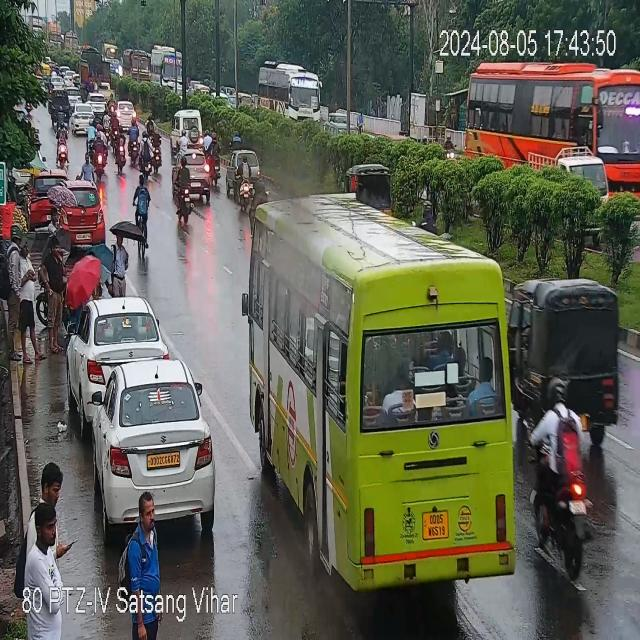2-wheelers: (535, 386, 587, 542), (230, 151, 264, 209), (172, 157, 202, 221), (130, 169, 152, 243), (140, 115, 162, 169), (88, 123, 109, 170), (206, 123, 220, 186), (112, 118, 128, 172), (127, 118, 141, 166), (56, 126, 66, 168)
auto: (512, 283, 628, 451), (350, 167, 396, 210)
bus: (244, 203, 509, 534), (460, 63, 640, 189), (241, 59, 321, 116)
car: (74, 358, 218, 531), (72, 298, 168, 392), (30, 175, 110, 242), (172, 107, 205, 141), (114, 99, 140, 122)
pedestrian: (117, 492, 166, 594), (22, 511, 74, 593), (18, 236, 52, 359), (30, 459, 70, 546), (106, 229, 129, 299)
